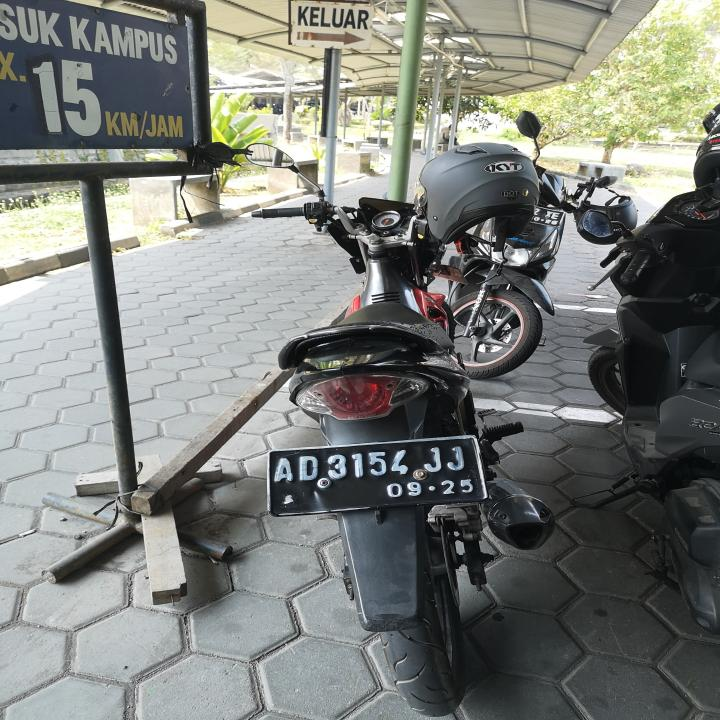plate: (265, 435, 492, 522)
